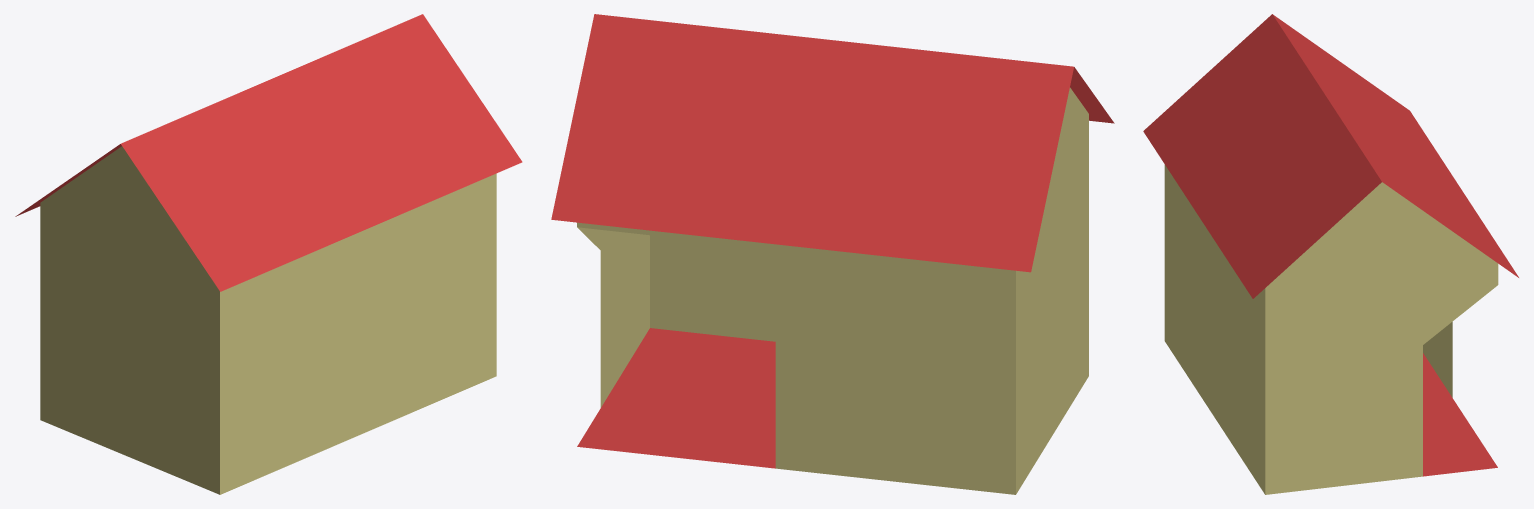
The picture shows the model from 3 angles, left to right: view 1: azimuth 30°, elevation 25°; view 2: azimuth 150°, elevation 25°; view 3: azimuth 270°, elevation 25°; orthographic projection. The views are drawn at different scales.
Size of the model in its own units: 20.11 by 16.08 by 14.46.
